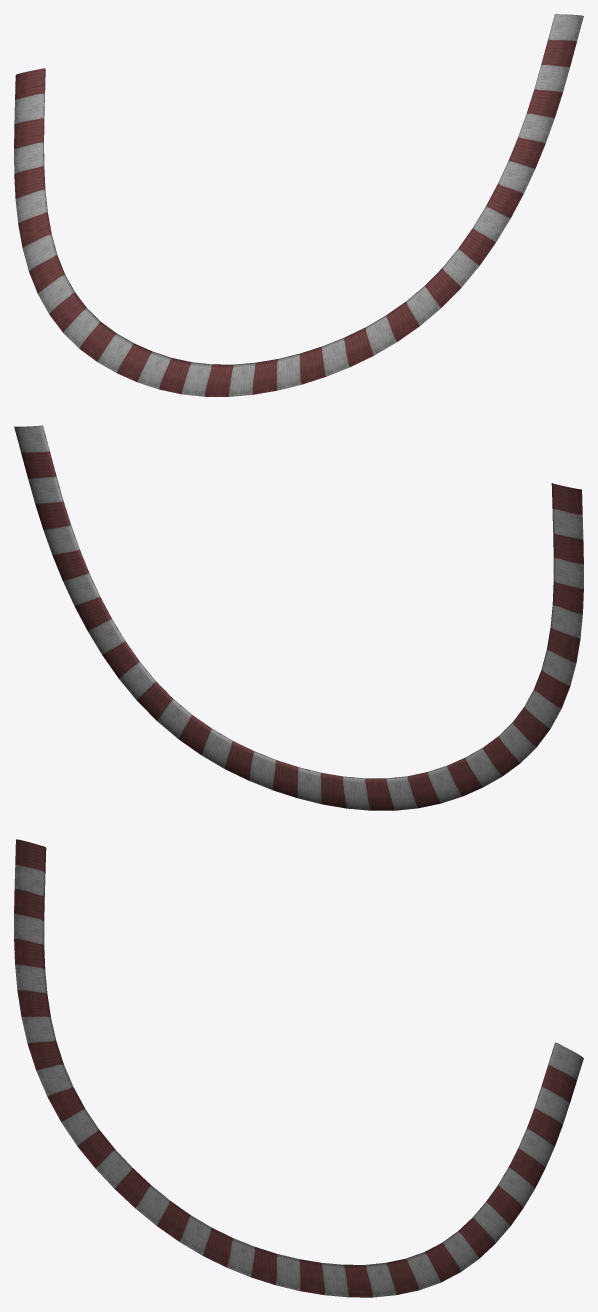
File: _1KERB_02_05_Scene.243.obj
3 renders of one model, top to bottom at view 1: azimuth 30°, elevation 25°; view 2: azimuth 150°, elevation 25°; view 3: azimuth 330°, elevation 25°, orthographic.
Parts seen in each view (by area): view 1: _1KERB_02_05_Scene.243; view 2: _1KERB_02_05_Scene.243; view 3: _1KERB_02_05_Scene.243.
Part boxes in pixels (box(x1,y1,x2,y2)): _1KERB_02_05_Scene.243: box(14, 14, 583, 396); _1KERB_02_05_Scene.243: box(14, 425, 583, 810); _1KERB_02_05_Scene.243: box(14, 839, 583, 1297).
Bounding box in the file's own units: 24.38 × 15.49 × 0.2288.
